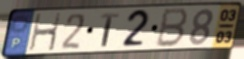2: (119, 8, 154, 50), (59, 12, 87, 51)
8: (189, 7, 215, 46)
B: (154, 7, 191, 49)
H: (28, 12, 63, 53)
T: (99, 12, 121, 49)
